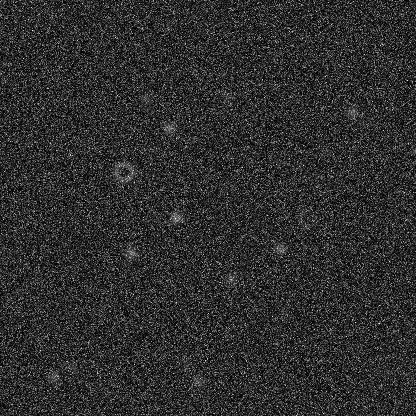Ring: (111, 159, 135, 183), (294, 206, 318, 230)
Spot: (63, 359, 79, 375), (190, 373, 206, 389), (317, 143, 333, 159), (168, 209, 184, 225), (271, 240, 287, 256), (138, 90, 154, 106), (122, 245, 138, 261), (353, 340, 369, 356), (161, 119, 177, 135), (344, 103, 360, 119), (369, 361, 385, 377), (45, 369, 61, 385), (223, 270, 239, 286), (219, 90, 235, 106), (178, 357, 194, 373)
